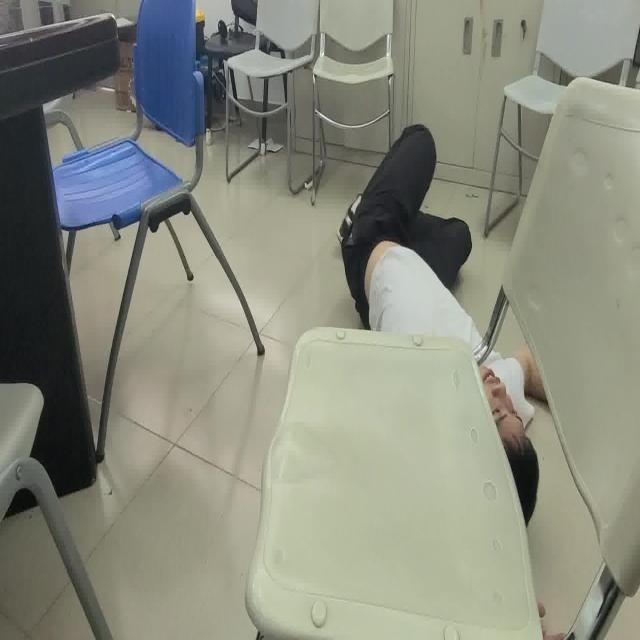Fall: (351, 124, 538, 497)
